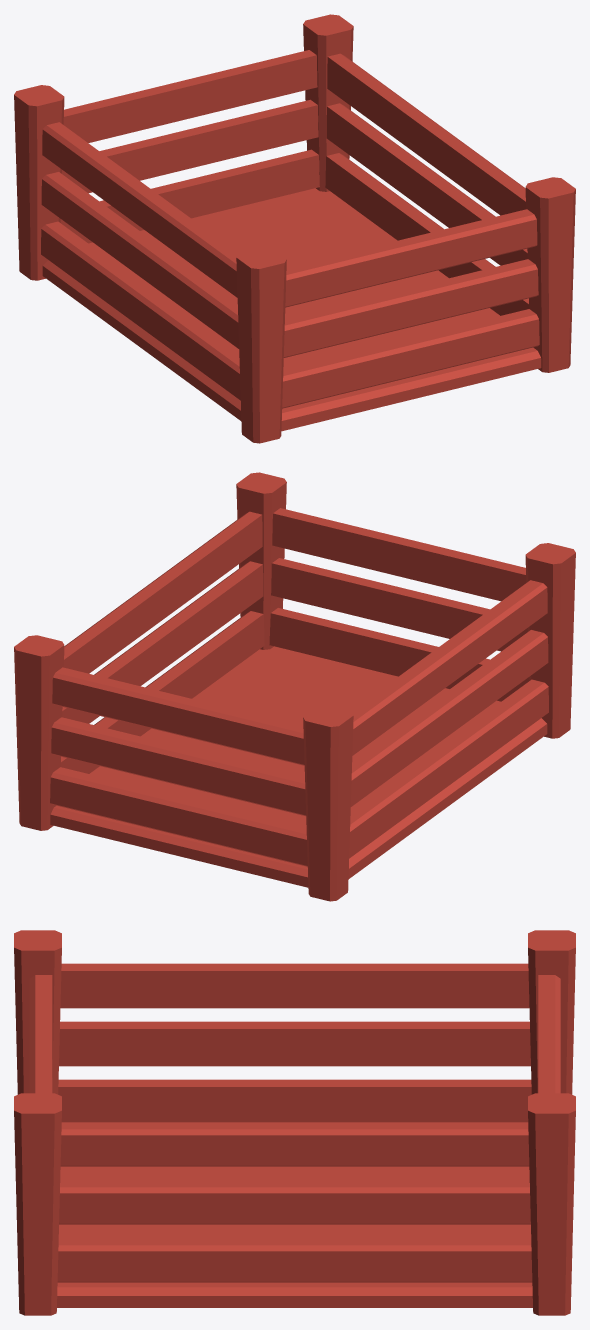
File: cratebox_d_276.gltf
3 views of the same model, one above another, from view 1: azimuth 30°, elevation 25°; view 2: azimuth 150°, elevation 25°; view 3: azimuth 270°, elevation 25° (orthographic). The views are drawn at different scales.
Parts seen in each view (by area): view 1: cratebox_d004; view 2: cratebox_d004; view 3: cratebox_d004.
Part boxes in pixels (left/top/right/bottom): cratebox_d004: left=14, top=14, right=575, bottom=443; cratebox_d004: left=14, top=472, right=575, bottom=901; cratebox_d004: left=14, top=930, right=575, bottom=1315.
Size of the model in its own units: 0.3263 by 0.1696 by 0.4228.
1 material, 1 textured.
